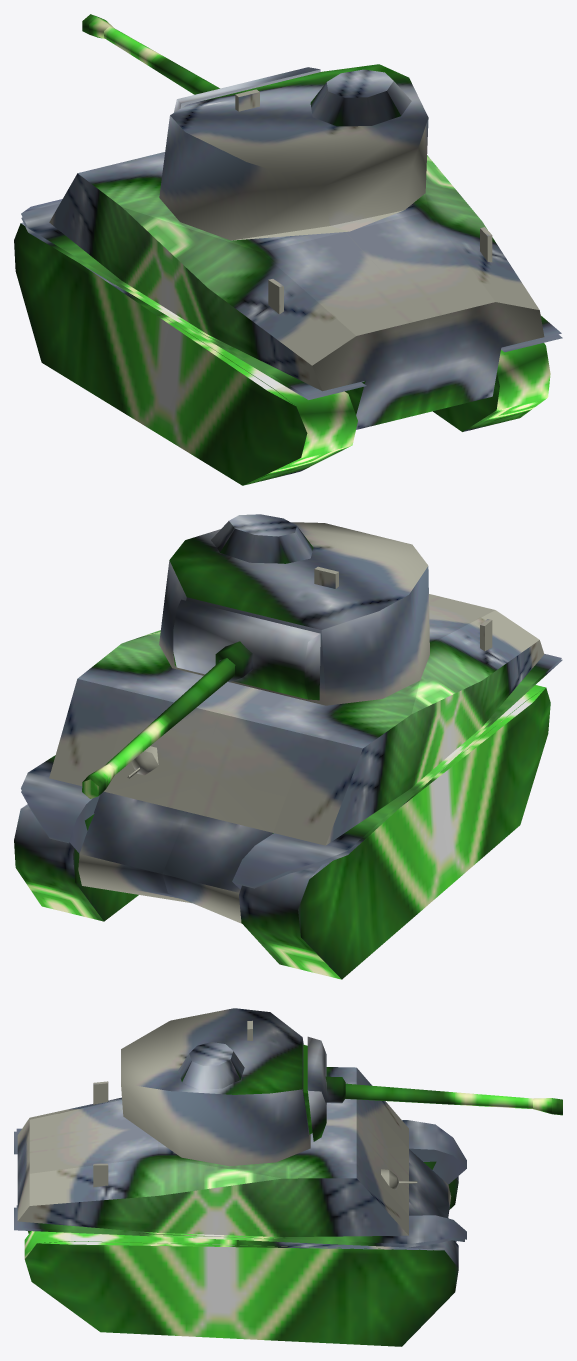
File: Icon.ico.obj
3 renders of one model, top to bottom at view 1: azimuth 30°, elevation 25°; view 2: azimuth 150°, elevation 25°; view 3: azimuth 270°, elevation 25°, orthographic. The views are drawn at different scales.
Size of the model in its own units: 1.6 by 1.53 by 2.99.
